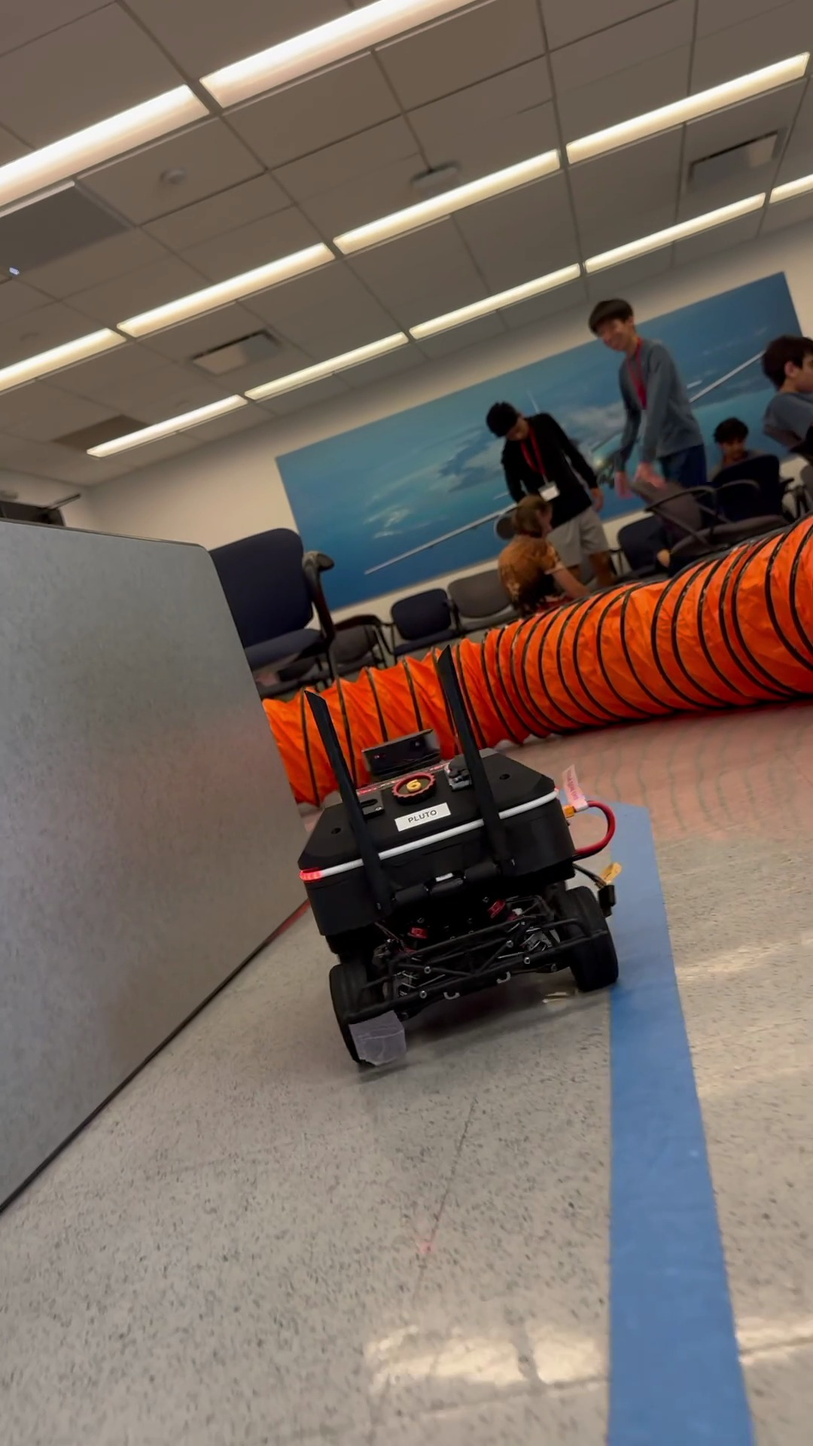racecar: (287, 643, 628, 1074)
